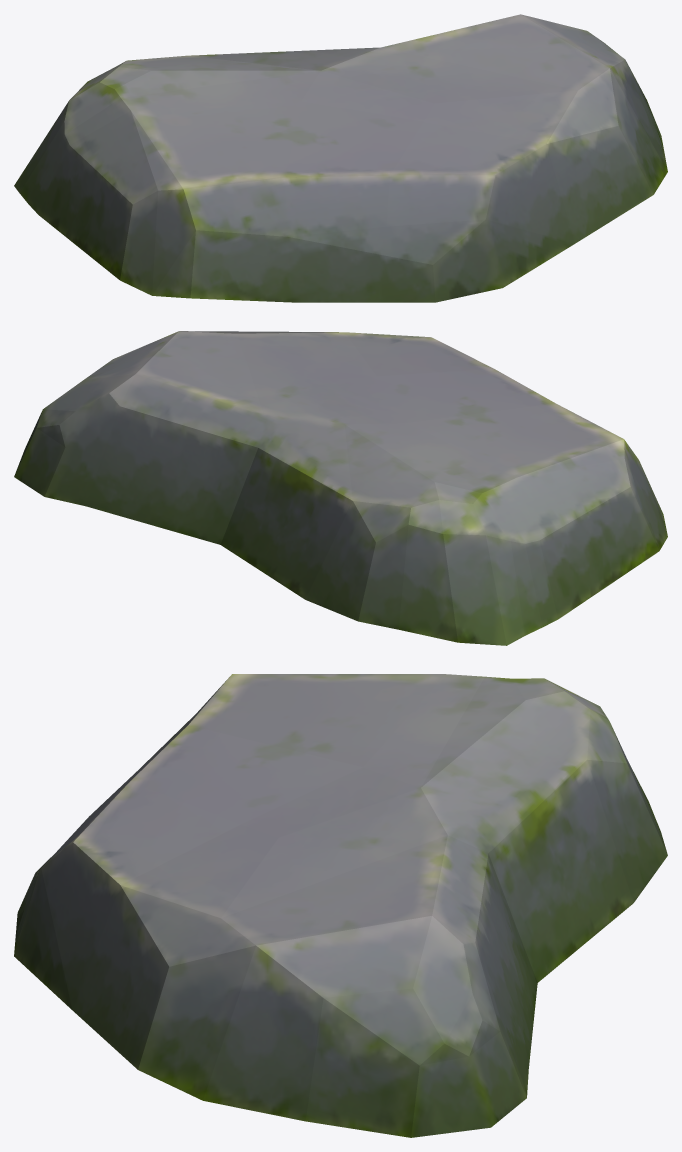
The model's file is Pebble_Round_1.glb.
3 renders of one model, top to bottom at view 1: azimuth 30°, elevation 25°; view 2: azimuth 150°, elevation 25°; view 3: azimuth 270°, elevation 25°, orthographic. The views are drawn at different scales.
Visible parts, largest first — view 1: Pebble_Round_1; view 2: Pebble_Round_1; view 3: Pebble_Round_1.
Boxes of the visible parts, <box> form: Pebble_Round_1: <box>14,14,667,302</box>; Pebble_Round_1: <box>14,331,667,645</box>; Pebble_Round_1: <box>14,674,667,1137</box>.
Bounding box in the file's own units: 0.5 × 0.0955 × 0.367.
1 material, 1 textured.
